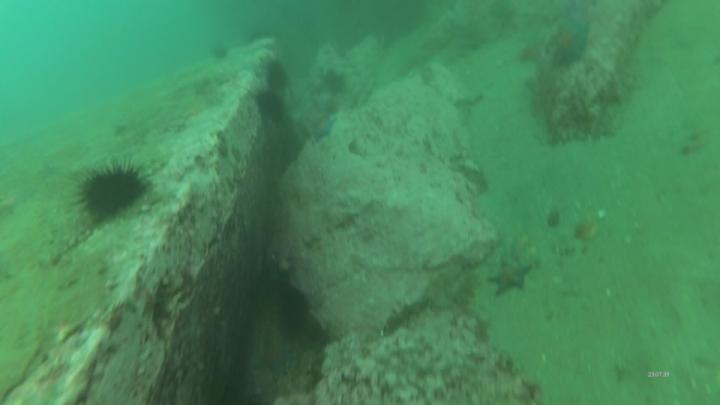echinus: (80, 167, 150, 221), (252, 89, 286, 121), (263, 60, 294, 93)
starfish: (487, 257, 535, 298), (551, 23, 590, 69), (313, 115, 339, 145)
